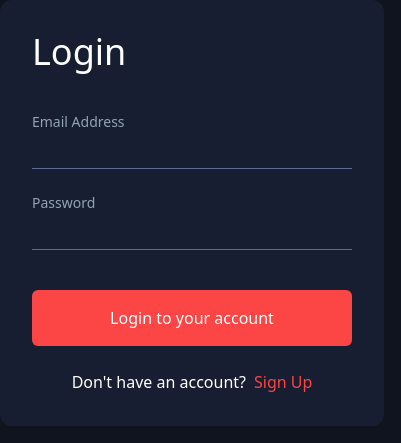
Test: ommiting password results in a error message
The image size is (401, 443).
Type "test@gmail.com" into the field labelled "Email Address" at (192, 156), box left=32, top=144, right=352, bottom=169
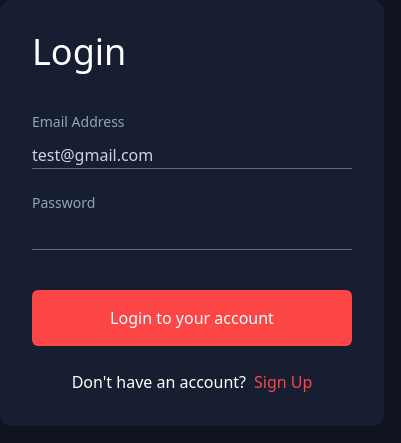
Click the button "Login to your account" at (192, 318), box left=32, top=290, right=352, bottom=346
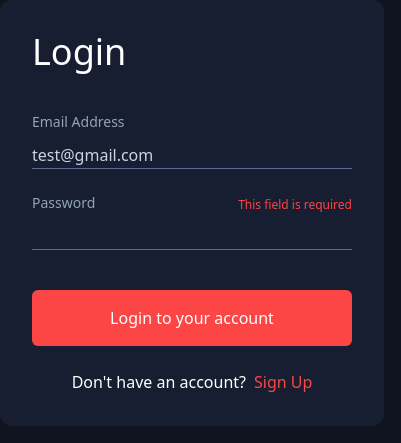
Now the message reads "This field is required", box left=238, top=196, right=352, bottom=213
